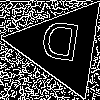D: (37, 21, 82, 70)
